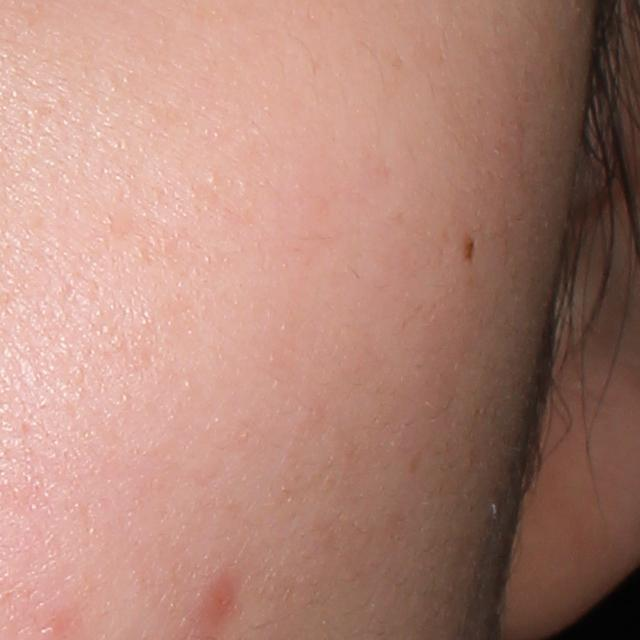nevus: (461, 234, 482, 266)
papule: (194, 569, 234, 619)
